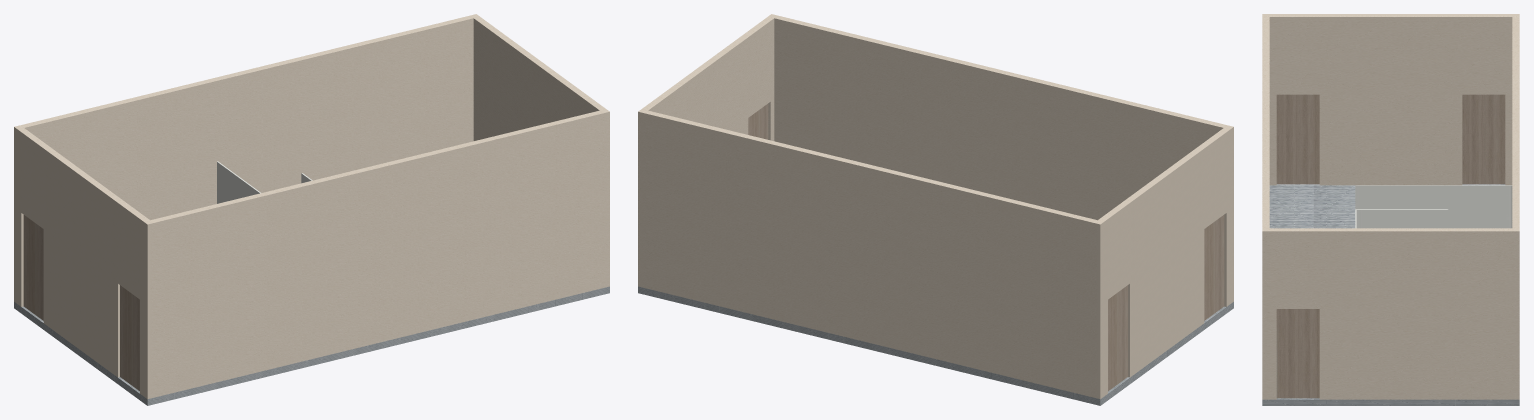
The model's file is bodyshape_room.glb.
The picture shows the model from 3 angles, left to right: view 1: azimuth 30°, elevation 25°; view 2: azimuth 150°, elevation 25°; view 3: azimuth 270°, elevation 25°; orthographic projection. The views are drawn at different scales.
Visible parts, largest first — view 1: 默认; view 2: 默认; view 3: 默认.
Boxes of the visible parts, <box> form: 默认: <box>14,14,609,405</box>; 默认: <box>638,14,1233,405</box>; 默认: <box>1262,14,1519,405</box>.
Size of the model in its own units: 8.23 by 3.09 by 4.11.
Materials: 7 (6 with a texture image).
